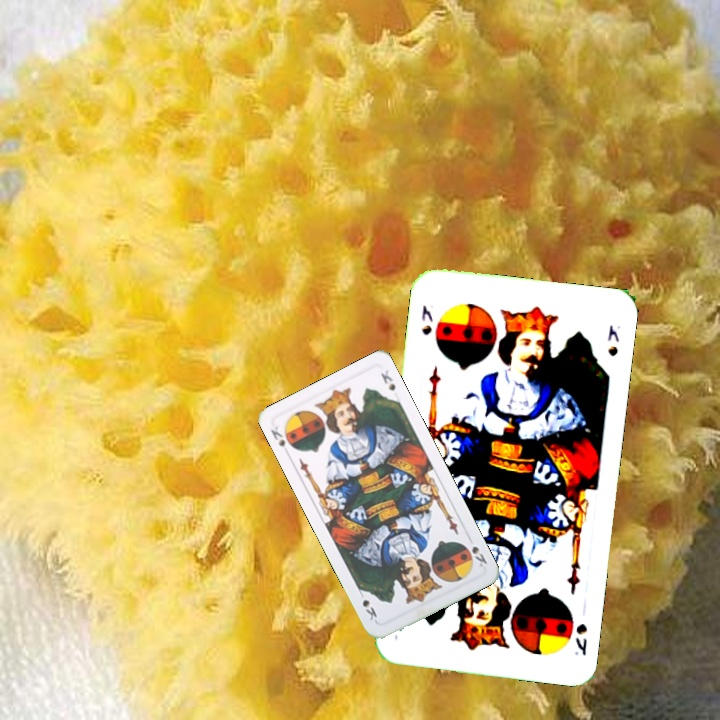SK: (266, 422, 292, 458), (460, 540, 490, 570), (570, 619, 590, 658), (417, 301, 435, 338)
